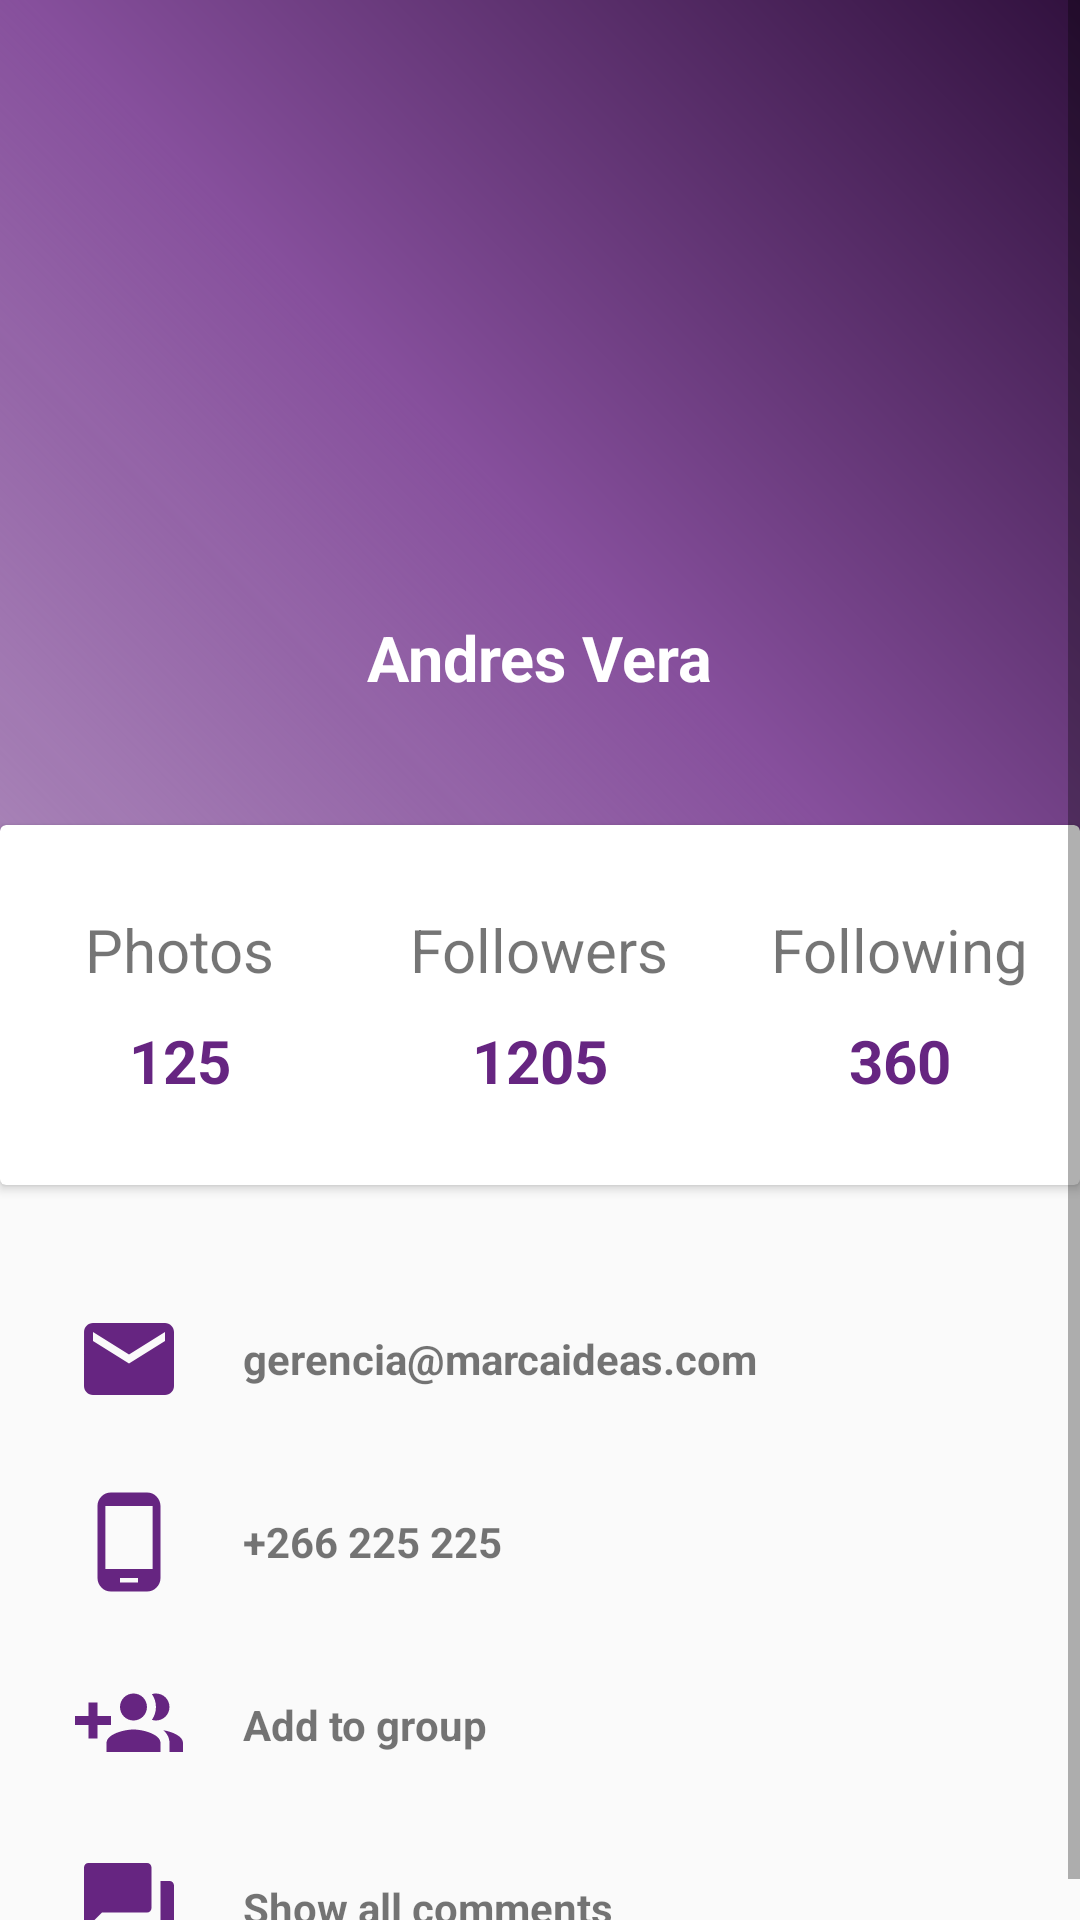

Icon bounding boxes for this 1080x1920 phone screenshot, format [x1,y1,x2,y2]:
email: [84,1323,174,1395]
phone android: [97,1492,161,1592]
